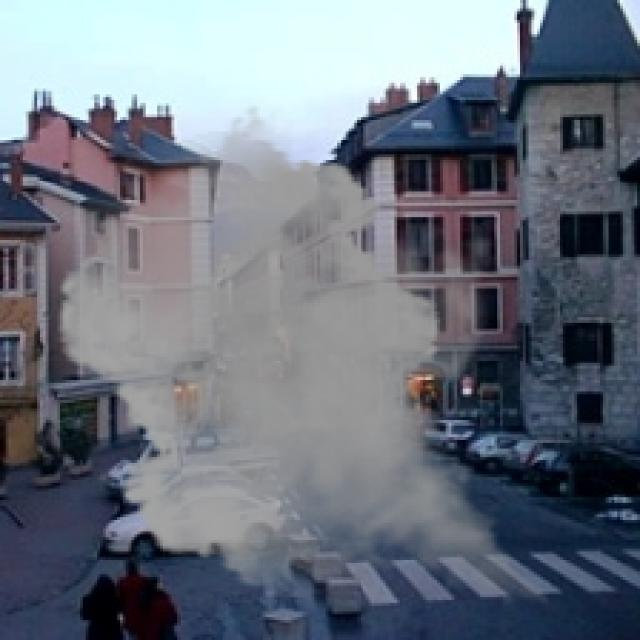smoke: (43, 103, 577, 617)
